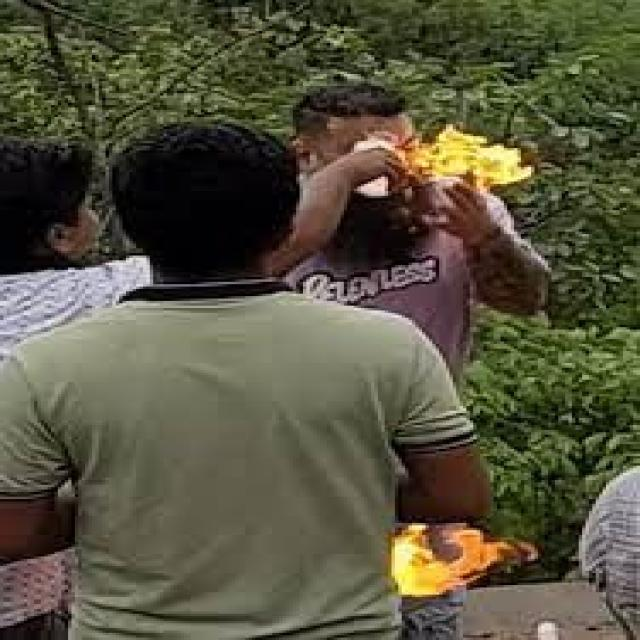fire: (383, 523, 539, 597), (394, 123, 535, 196)
